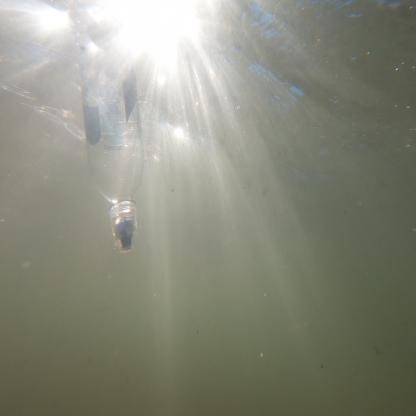Rác: (73, 35, 163, 283)
